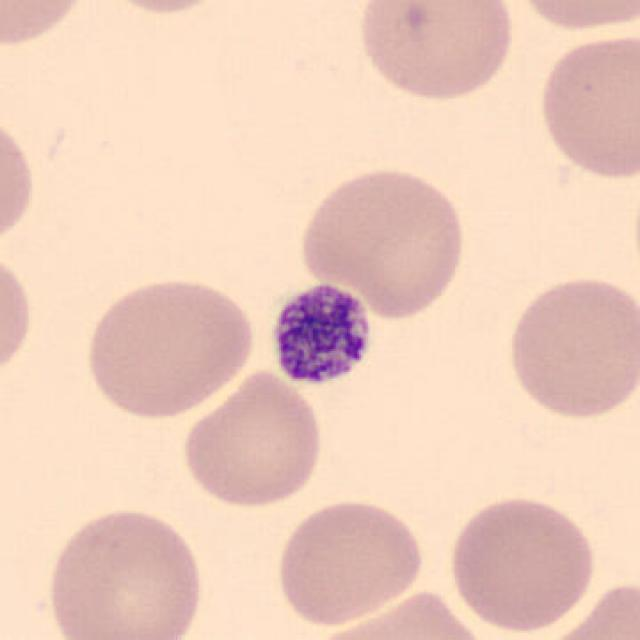Platelets: (261, 276, 377, 396)
RBC: (295, 162, 471, 321), (80, 272, 258, 422), (41, 502, 208, 640), (444, 490, 601, 635), (178, 367, 327, 513), (502, 270, 638, 425), (272, 494, 427, 630), (352, 0, 519, 106), (531, 26, 640, 185), (304, 585, 491, 640), (538, 575, 640, 640), (0, 106, 39, 257), (0, 243, 37, 389), (0, 0, 92, 51), (504, 0, 638, 35), (87, 0, 240, 18)
